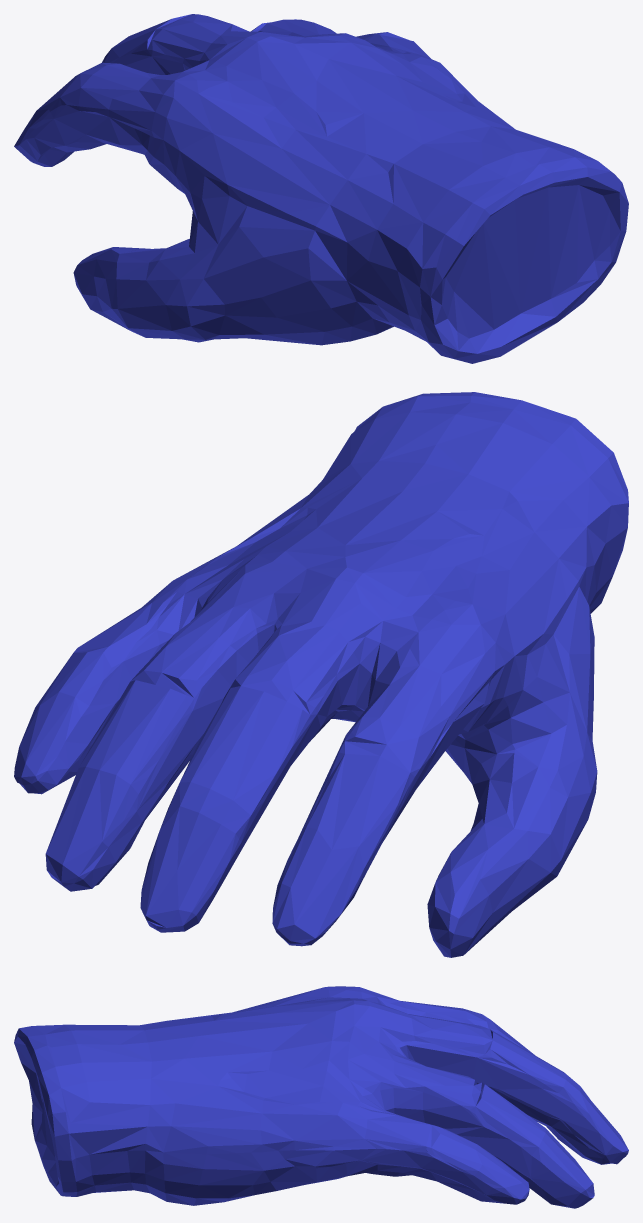
The model's file is Hand.obj.
3 views of the same model, one above another, from view 1: azimuth 30°, elevation 25°; view 2: azimuth 150°, elevation 25°; view 3: azimuth 270°, elevation 25° (orthographic). The views are drawn at different scales.
Parts seen in each view (by area): view 1: Hand; view 2: Hand; view 3: Hand.
Boxes of the visible parts, bbox=[...] form: Hand: bbox=[14, 14, 628, 363]; Hand: bbox=[14, 392, 628, 957]; Hand: bbox=[14, 986, 628, 1208].
Size of the model in its own units: 0.1356 by 0.0971 by 0.245.
1 material, 1 textured.
